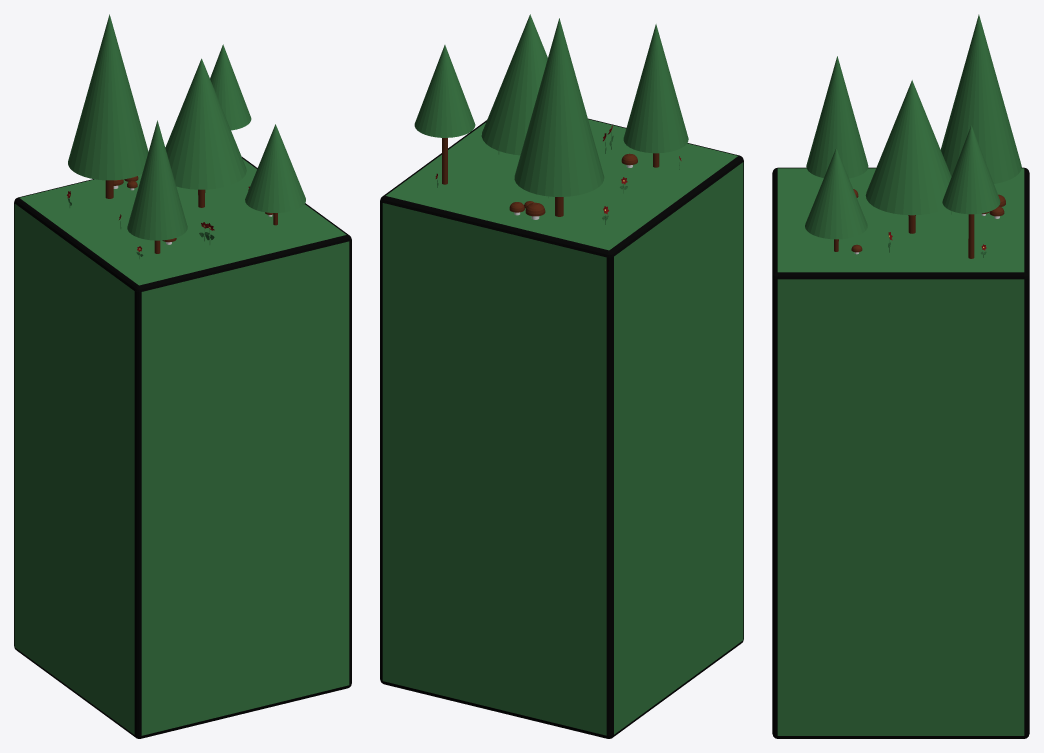
File: tile0Prefab.fbx
3 views of the same model, side by side, from view 1: azimuth 30°, elevation 25°; view 2: azimuth 150°, elevation 25°; view 3: azimuth 270°, elevation 25° (orthographic). The views are drawn at different scales.
Visible parts, largest first — view 1: Cube; view 2: Cube; view 3: Cube.
Boxes of the visible parts, <box> form: Cube: <box>14,14,351,738</box>; Cube: <box>380,14,743,738</box>; Cube: <box>772,14,1029,738</box>.
Size of the model in its own units: 200 by 562 by 200.
